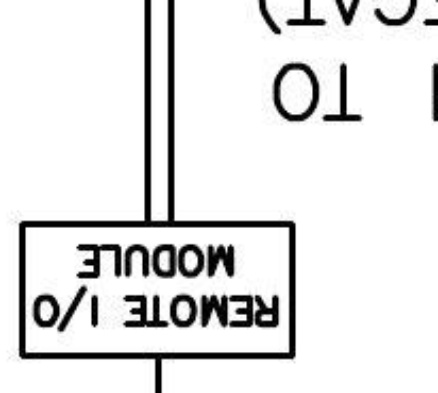remote_io_module: (19, 220, 297, 359)
